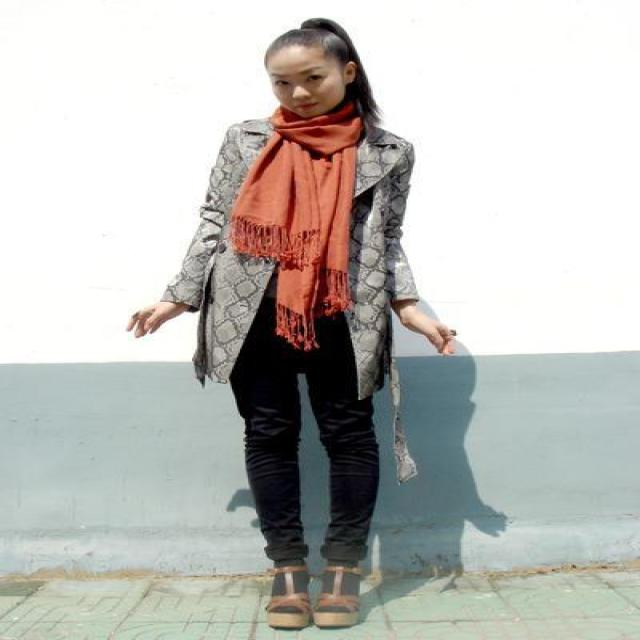jacket: (160, 99, 419, 396)
pants: (229, 274, 382, 568)
shoe: (253, 560, 373, 626)
